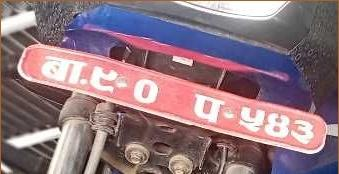0: (131, 78, 161, 104)
3: (290, 118, 315, 146)
4: (265, 109, 290, 141)
5: (236, 104, 266, 137)
9: (89, 64, 122, 95)
ba: (40, 52, 87, 88)
pa: (190, 90, 226, 127)
